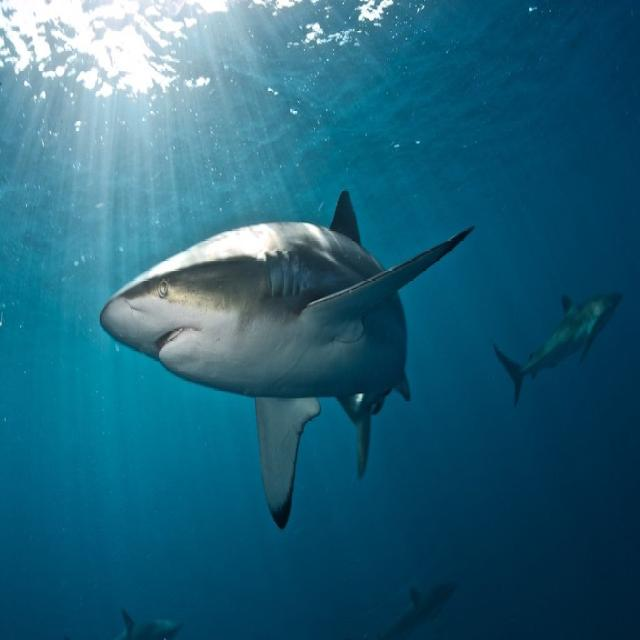shark: (99, 191, 472, 528), (493, 293, 621, 404)
